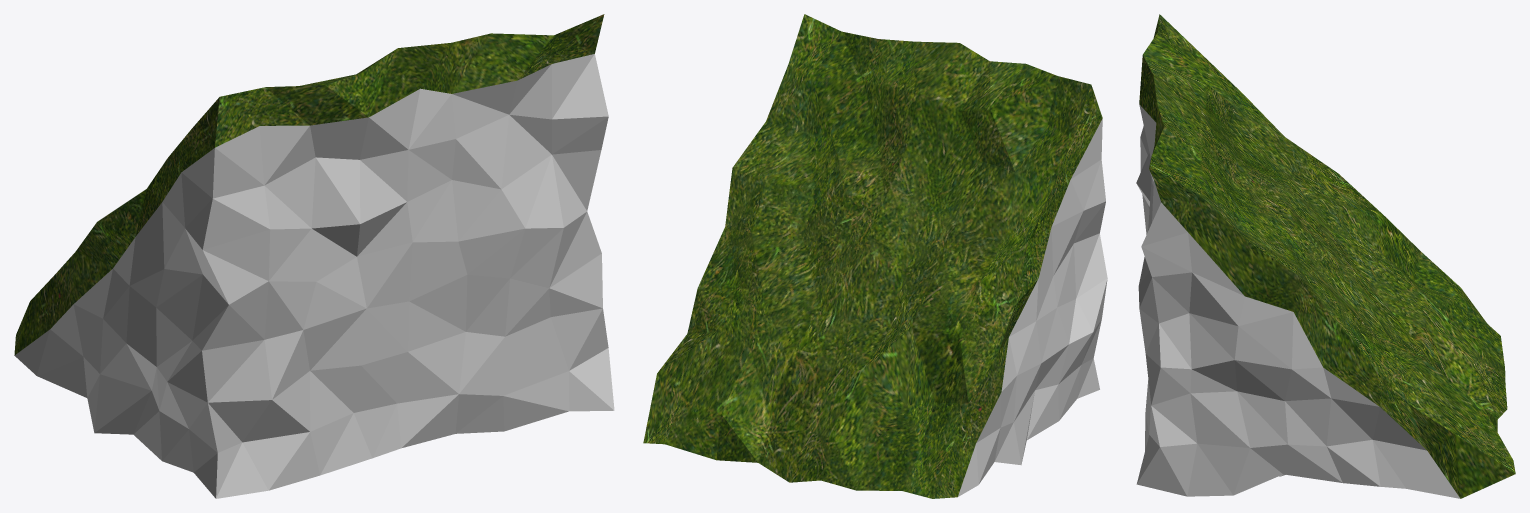
The model's file is tile_002.obj.
3 views of the same model, side by side, from view 1: azimuth 30°, elevation 25°; view 2: azimuth 150°, elevation 25°; view 3: azimuth 270°, elevation 25° (orthographic). The views are drawn at different scales.
Visible parts, largest first — view 1: Cube.001; view 2: Cube.001; view 3: Cube.001.
Boxes of the visible parts, x1,y1,x2,y2 form: Cube.001: (14, 14, 614, 498); Cube.001: (643, 14, 1107, 498); Cube.001: (1136, 14, 1515, 498).
Size of the model in its own units: 2.15 by 2.09 by 2.1.
